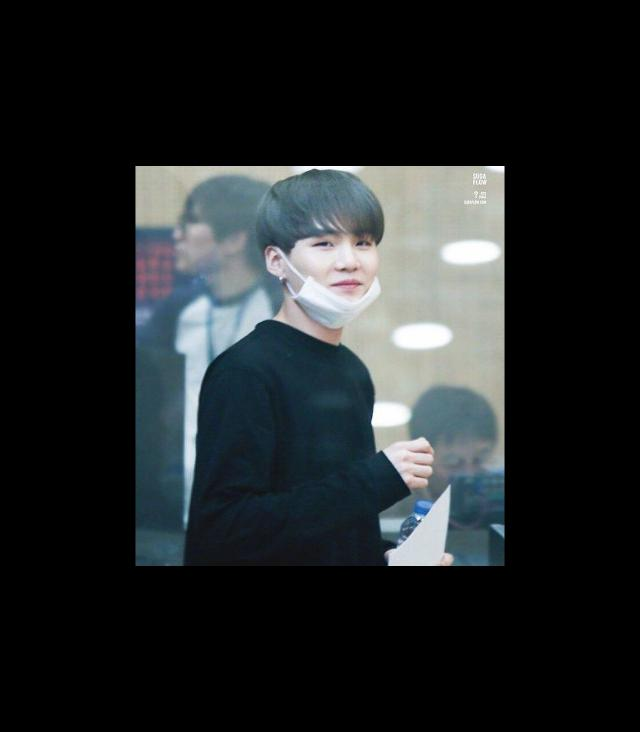mask_weared_incorrect: (296, 239, 382, 326)
without_mask: (165, 209, 214, 283)
